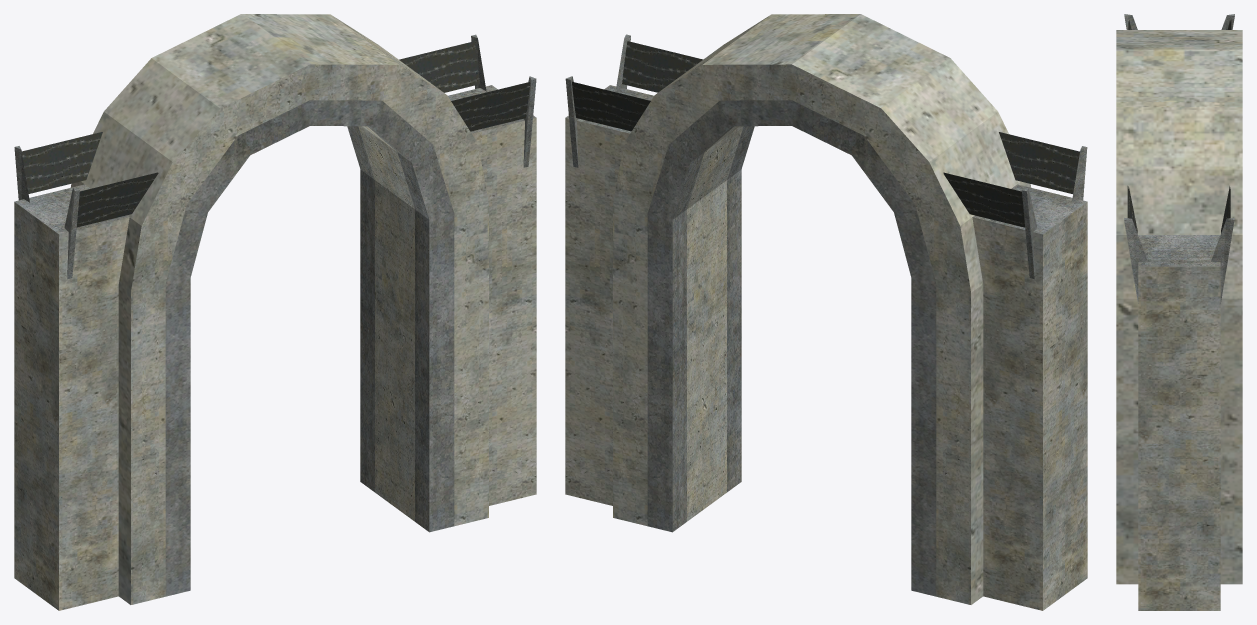
File: thm_corl_imprv_arch_sm_s03_l1.fbx
3 renders of one model, left to right at view 1: azimuth 30°, elevation 25°; view 2: azimuth 150°, elevation 25°; view 3: azimuth 270°, elevation 25°, orthographic. The views are drawn at different scales.
Parts seen in each view (by area): view 1: mesh_node; view 2: mesh_node; view 3: mesh_node.
Part boxes in pixels (box(x1,y1,x2,y2)): mesh_node: box(14, 14, 536, 610); mesh_node: box(565, 14, 1087, 610); mesh_node: box(1116, 14, 1242, 610).
Bounding box in the file's own units: 8 × 7.95 × 2.
